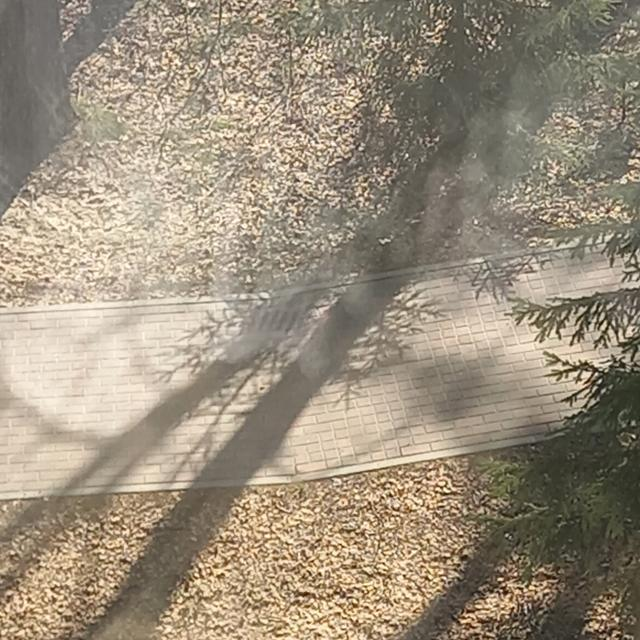Smoke: (216, 110, 640, 382)
